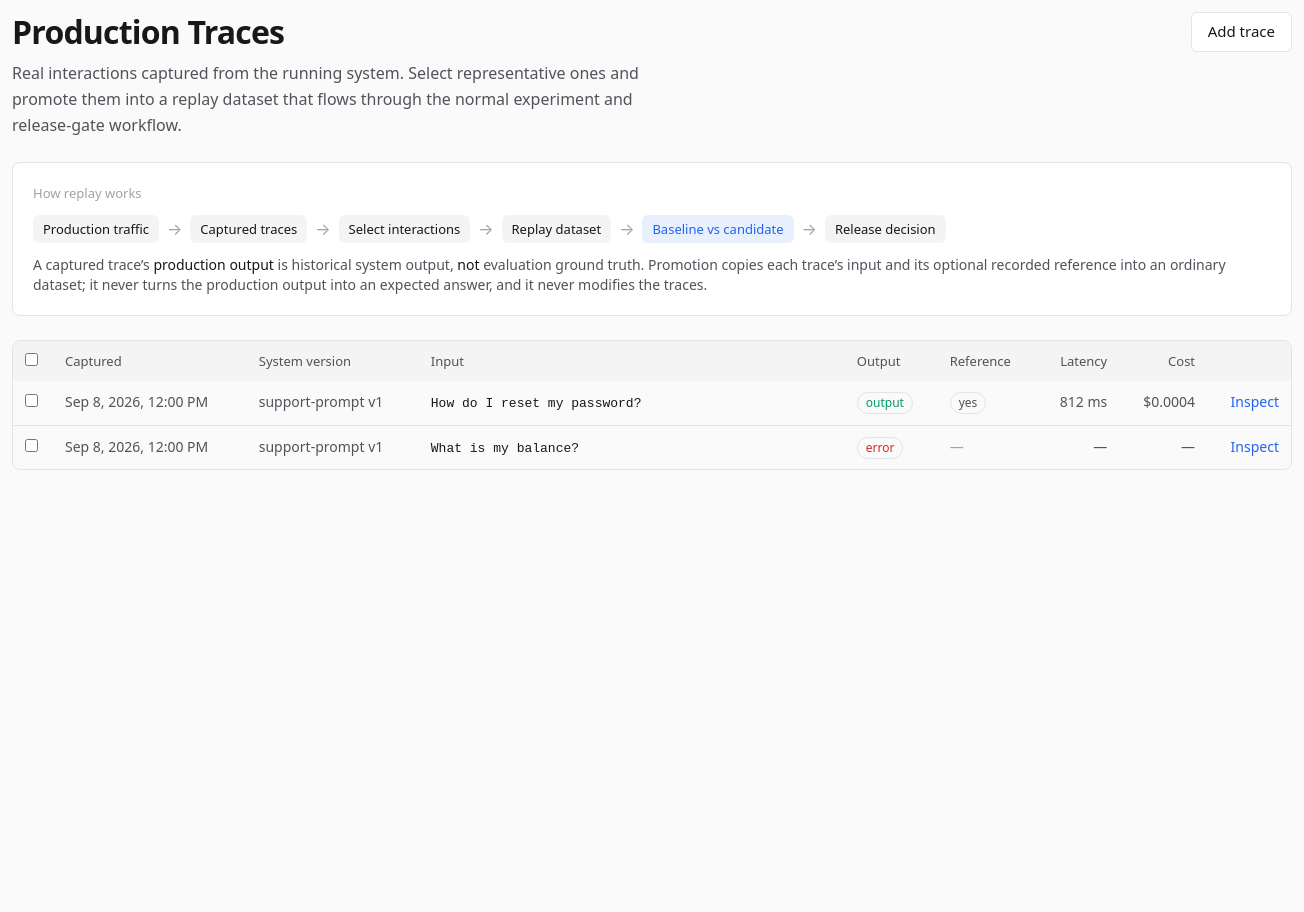
Test: ProductionTracesPage › selecting traces shows reference coverage and the reference-less warning
Expected: the text "How do I reset my password?" is shown, x1=431 y1=396 x2=641 y2=411
Click the checkbox named "Select trace" at point(32, 401), box x1=25 y1=394 x2=38 y2=407
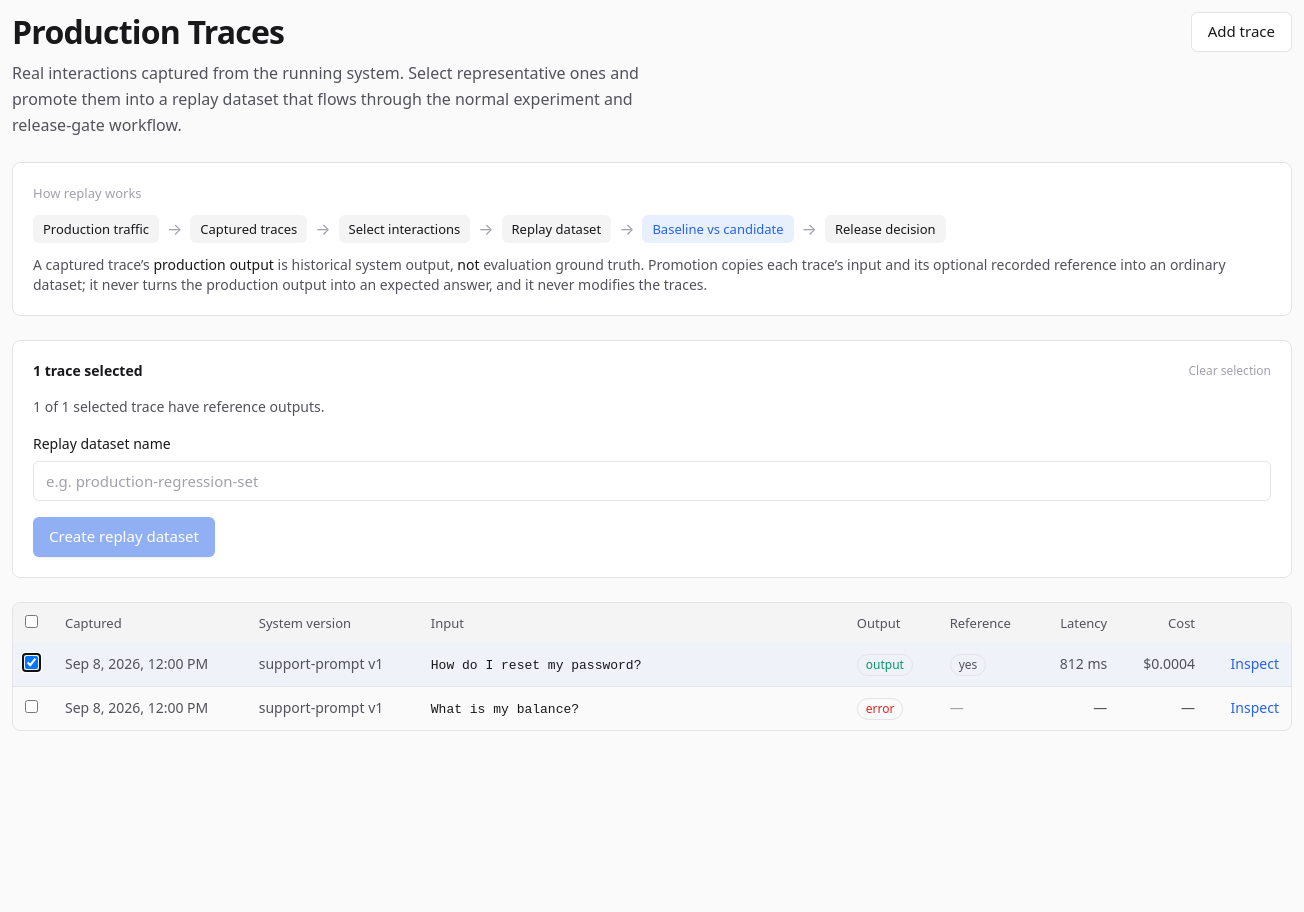
Click the checkbox named "Select trace" at point(32, 707), box x1=25 y1=700 x2=38 y2=713
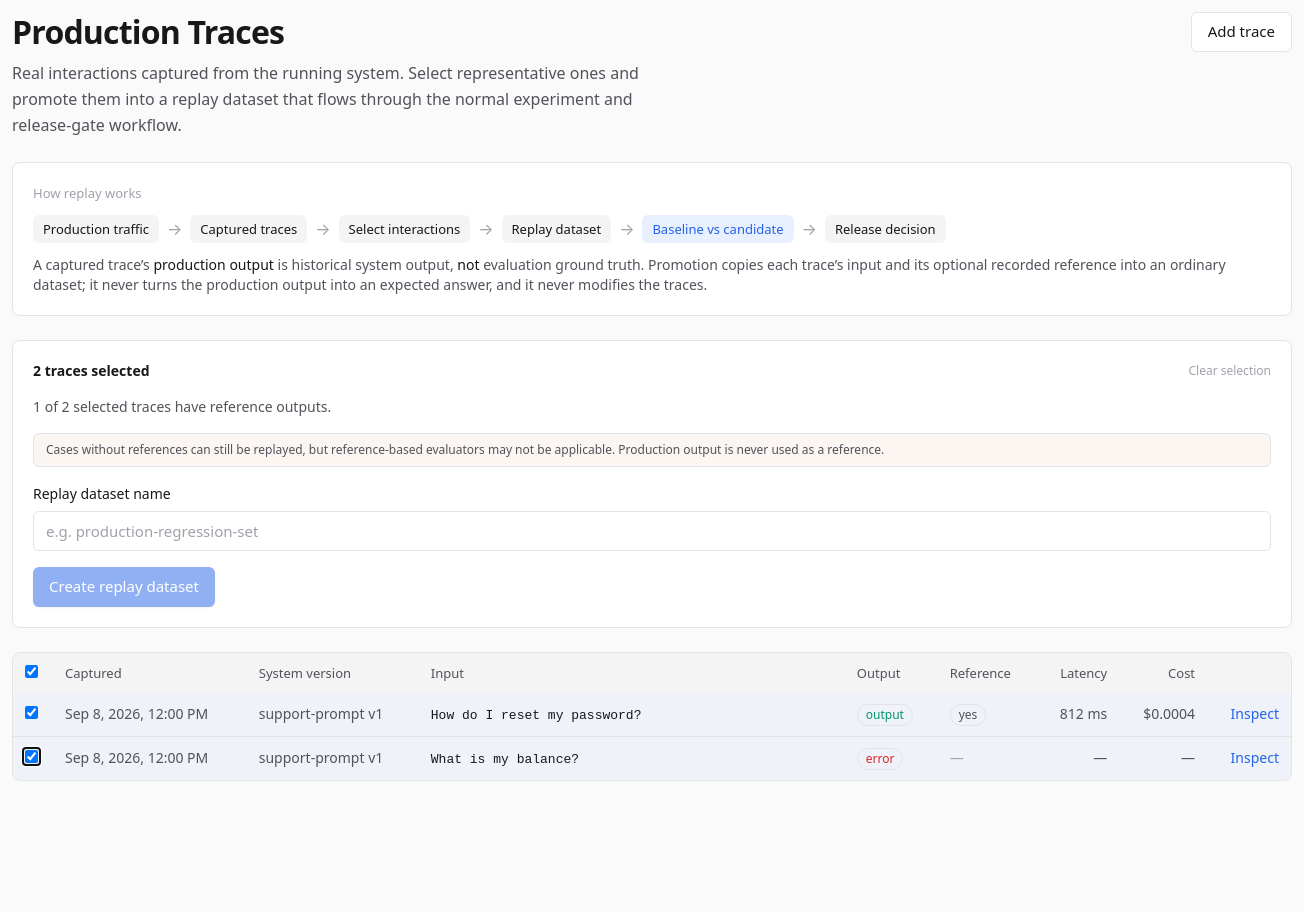
Now the text "2 traces selected" is shown, box x1=33 y1=361 x2=150 y2=381
Now the text "1 of 2 selected traces have reference outputs." is shown, box x1=33 y1=397 x2=331 y2=416
Now the text "reference-based evaluators may not be applicable" is shown, box x1=46 y1=441 x2=884 y2=458
